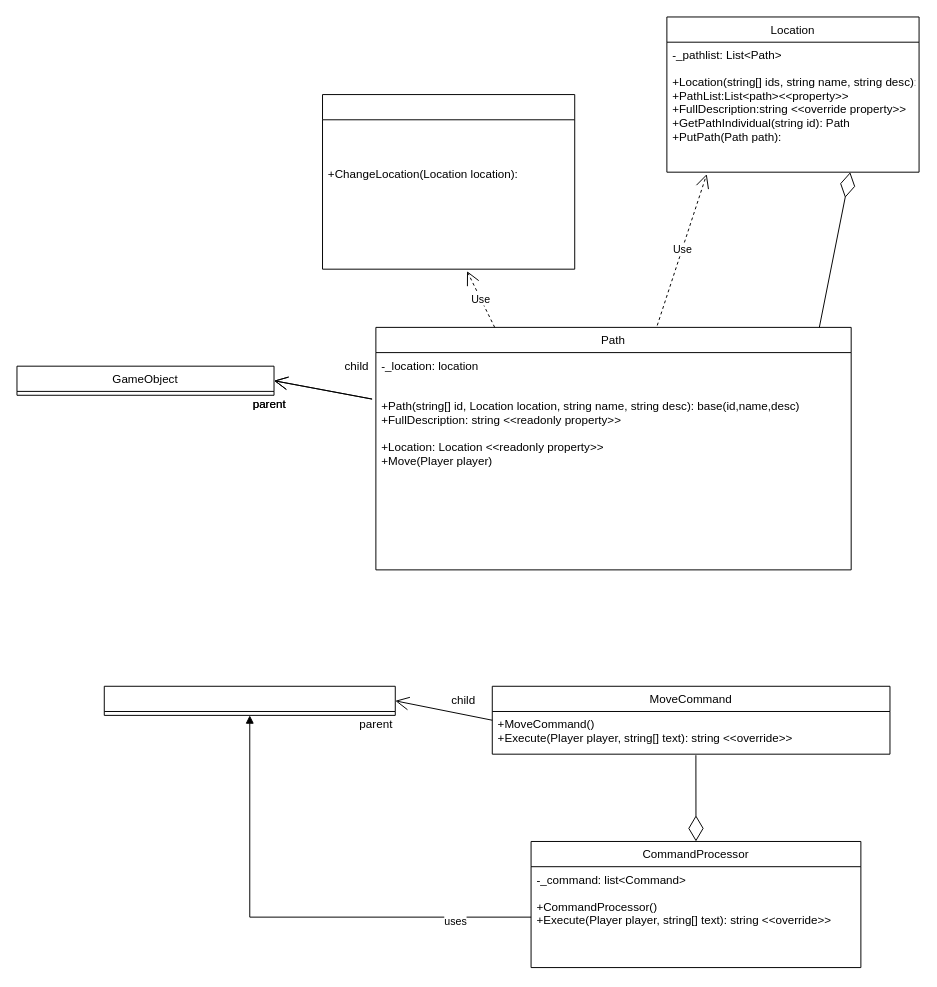
The diagram is 937 pixels wide and 987 high, and some of its shapes have lost their labels. Each missing label, with the box of its shape:
Command: (103, 685, 395, 715)
Player: (322, 94, 575, 269)
